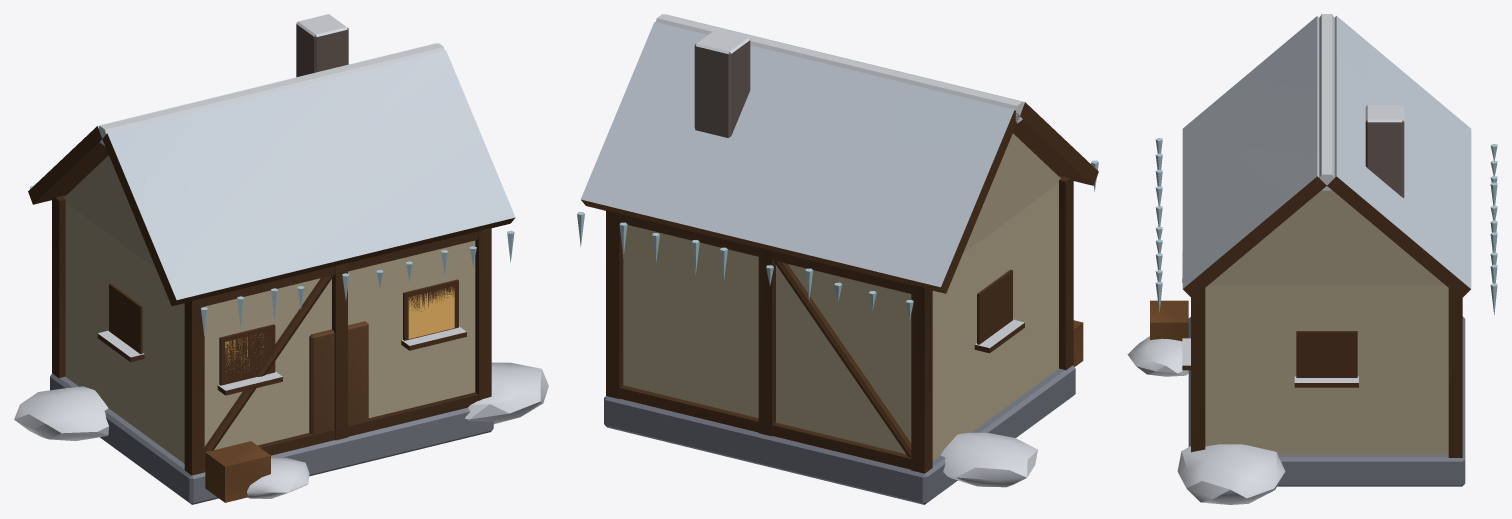
Rendered from frost_house.glb.
The picture shows the model from 3 angles, left to right: view 1: azimuth 30°, elevation 25°; view 2: azimuth 150°, elevation 25°; view 3: azimuth 270°, elevation 25°; orthographic projection. The views are drawn at different scales.
Visible parts, largest first — view 1: frost_house, frost_house_windows; view 2: frost_house; view 3: frost_house.
Part boxes in pixels (x1=…): frost_house: x1=14, y1=14, x2=548, y2=504; frost_house_windows: x1=225, y1=287, x2=454, y2=371; frost_house: x1=577, y1=14, x2=1098, y2=504; frost_house: x1=1127, y1=14, x2=1497, y2=504.
Size of the model in its own units: 7.61 by 5.86 by 5.75.
